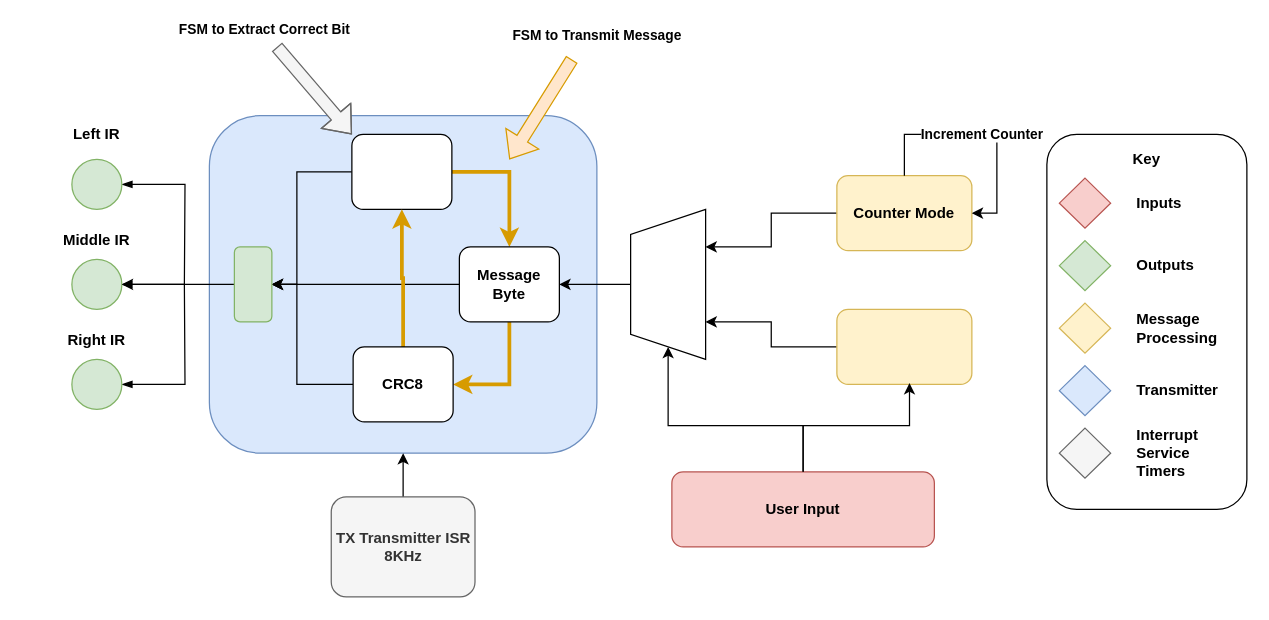
This 1269x620 diagram has some shape labels left out. Each missing label, with the centre of its shape:
"Message Mode" belongs at (904,346).
"Preamble" belongs at (401,171).
